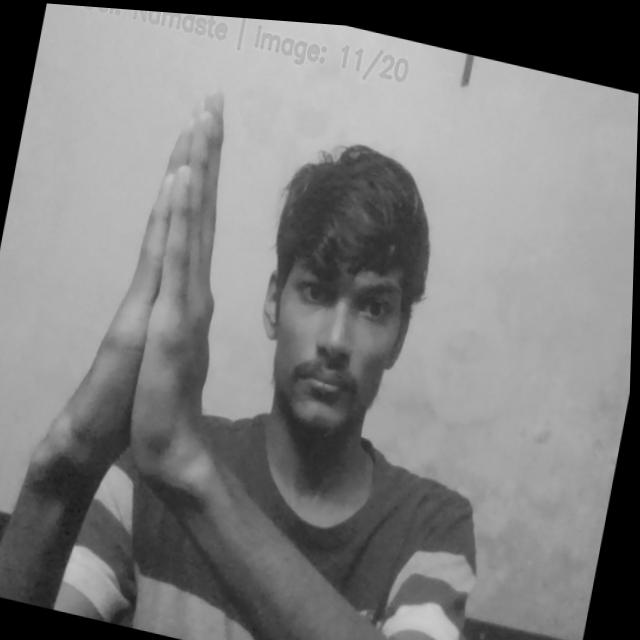Namaste: (57, 65, 272, 507)
